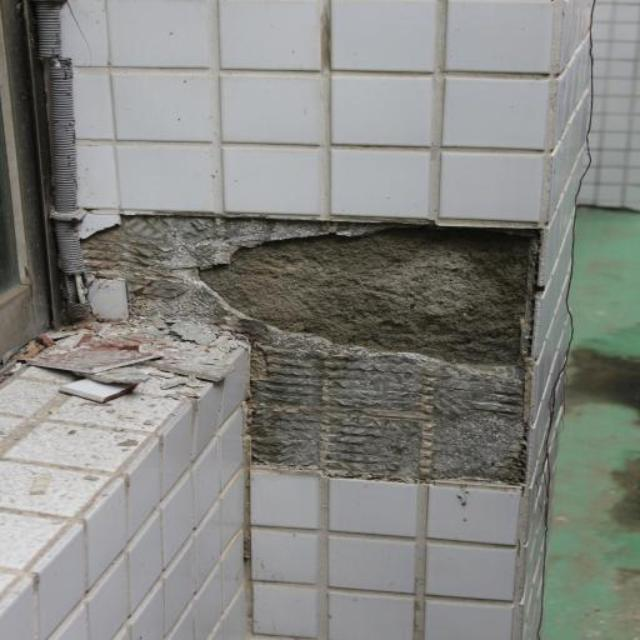D10: (59, 218, 541, 484)
